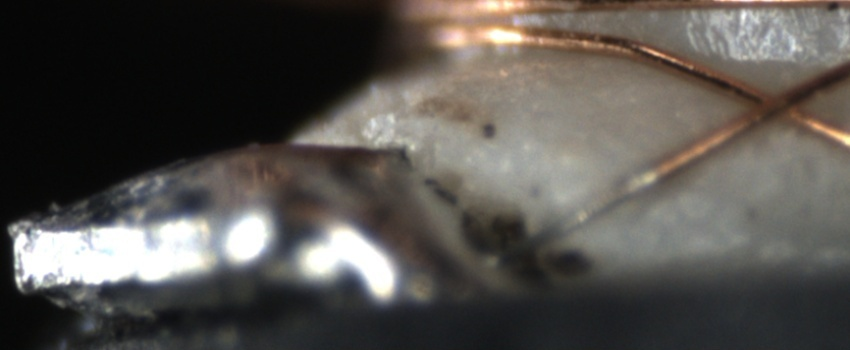CL: (732, 69, 826, 134)
TS: (531, 165, 660, 251)
